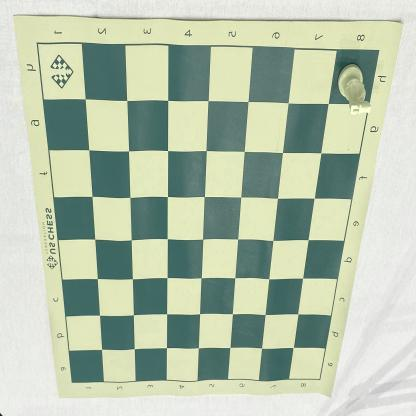white-knight: (338, 62, 372, 115)
